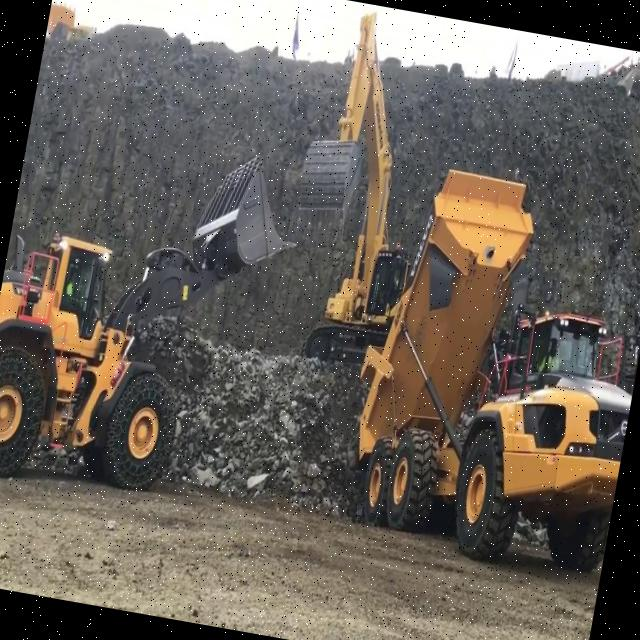Dump Truck: (328, 146, 640, 579)
Excavator: (268, 0, 456, 373), (564, 61, 640, 393)
Loader: (0, 110, 311, 519)
